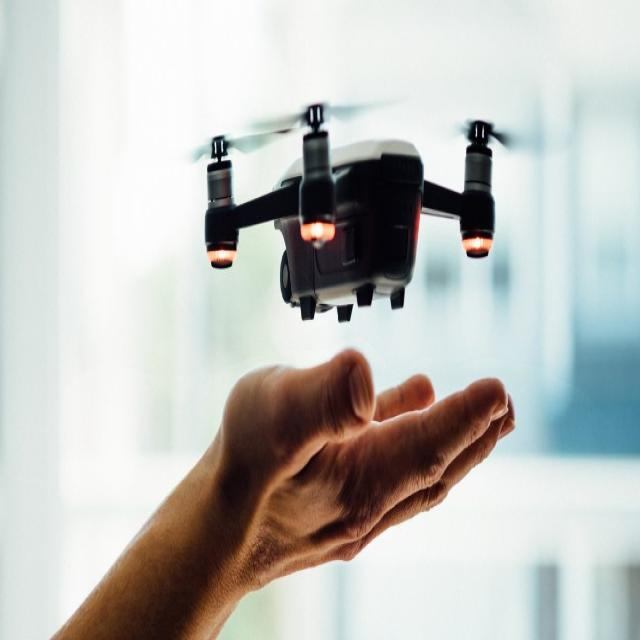drone: (183, 90, 533, 348)
